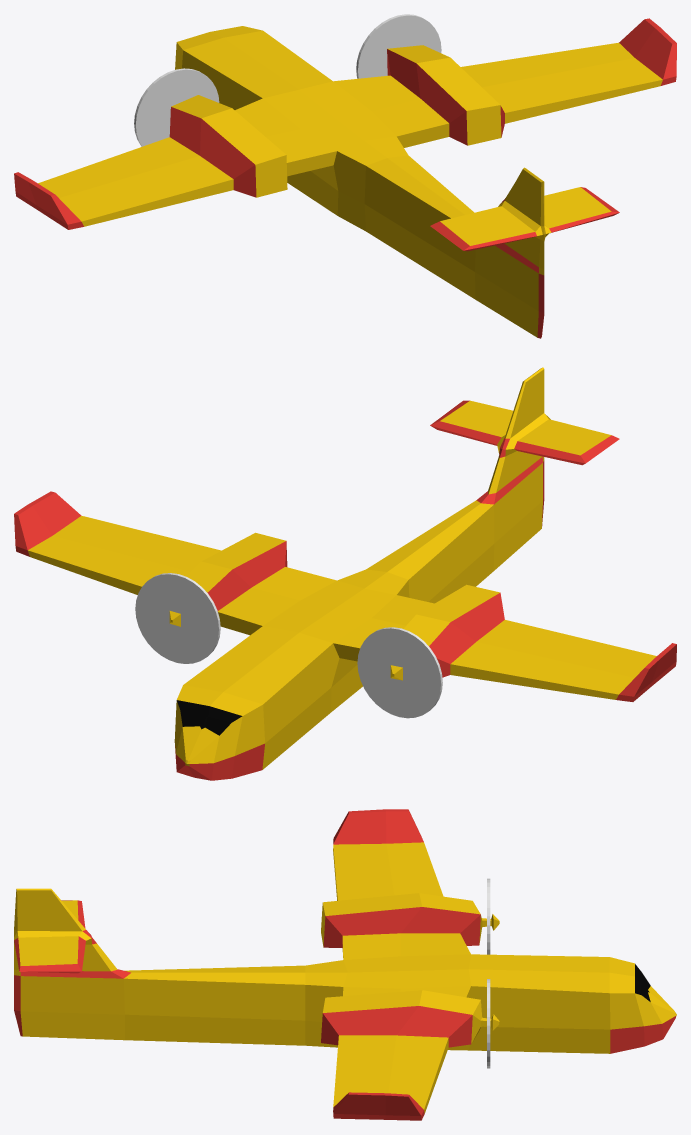
Rendered from WaterBomber.glb.
3 views of the same model, one above another, from view 1: azimuth 30°, elevation 25°; view 2: azimuth 150°, elevation 25°; view 3: azimuth 270°, elevation 25° (orthographic). The views are drawn at different scales.
Visible parts, largest first — view 1: PlaneBase, Cylinder.001, Cylinder; view 2: PlaneBase, Cylinder, Cylinder.001; view 3: PlaneBase.
Part boxes in pixels (x1=…): PlaneBase: x1=14, y1=18, x2=676, y2=338; Cylinder.001: x1=134, y1=68, x2=219, y2=146; Cylinder: x1=356, y1=14, x2=441, y2=78; PlaneBase: x1=14, y1=367, x2=676, y2=780; Cylinder: x1=135, y1=573, x2=220, y2=663; Cylinder.001: x1=357, y1=627, x2=442, y2=718; PlaneBase: x1=14, y1=809, x2=676, y2=1120.
Bounding box in the file's own units: 23.04 × 5.57 × 22.45.
